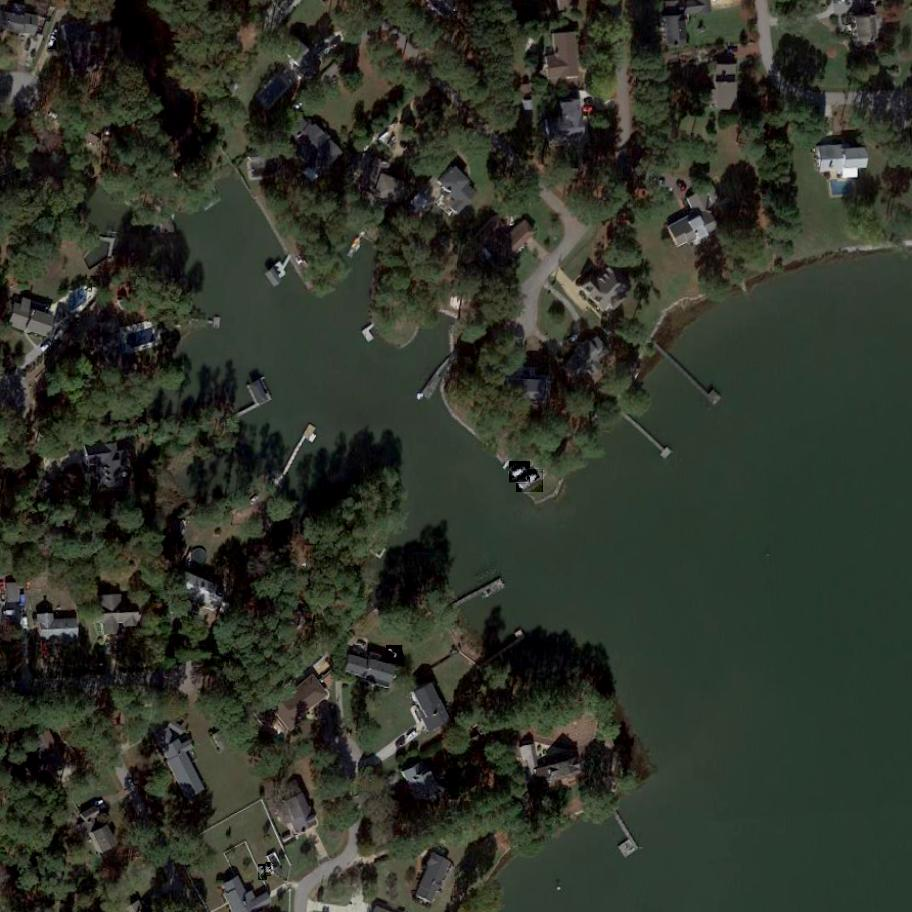ship: (515, 469, 543, 493), (508, 461, 531, 483)
small-vehicle: (386, 646, 404, 664), (258, 865, 268, 881), (49, 35, 57, 49), (266, 862, 271, 875)
